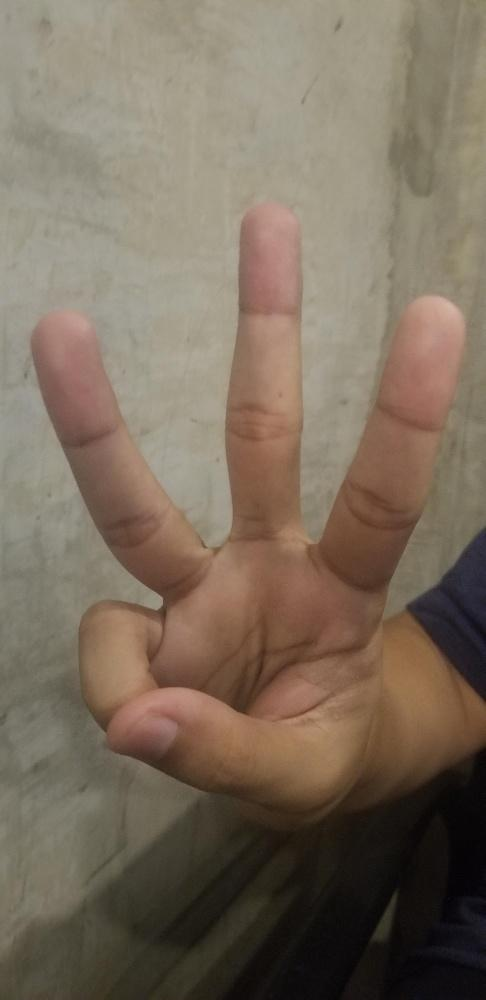w: (29, 199, 465, 822)
